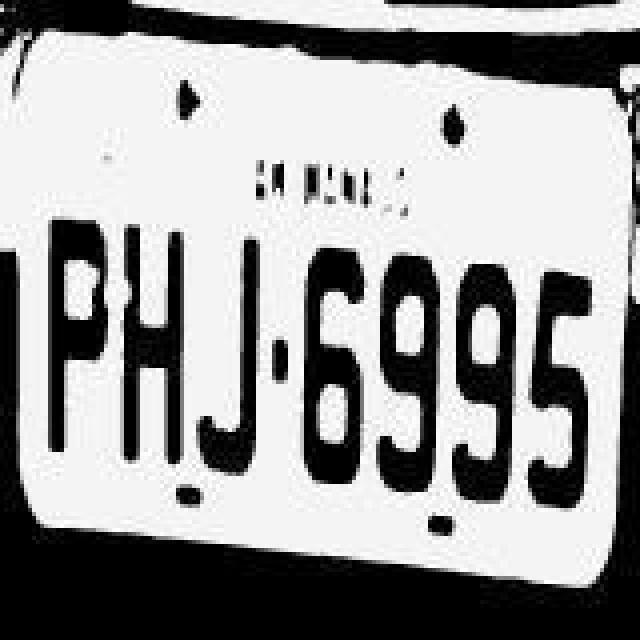5: (524, 260, 596, 516)
6: (290, 234, 366, 486)
9: (442, 248, 526, 512), (364, 244, 444, 508)
H: (114, 216, 190, 480)
J: (184, 224, 264, 480)
P: (42, 210, 118, 470)
